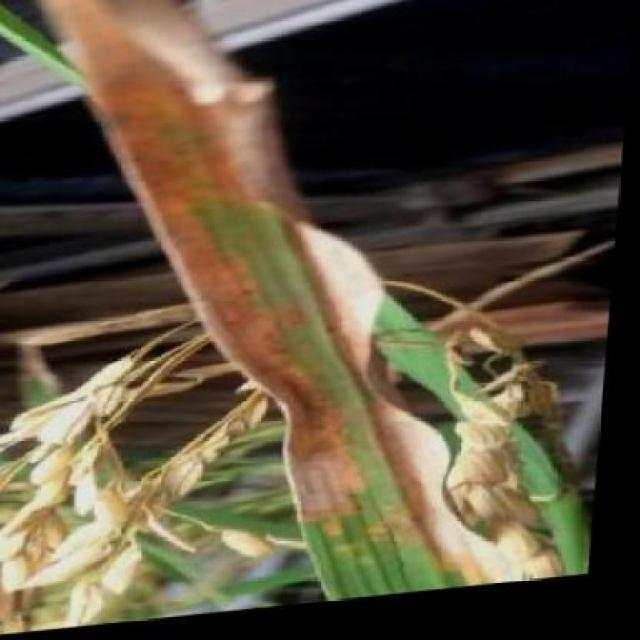Brown_Spot: (266, 219, 454, 615)
